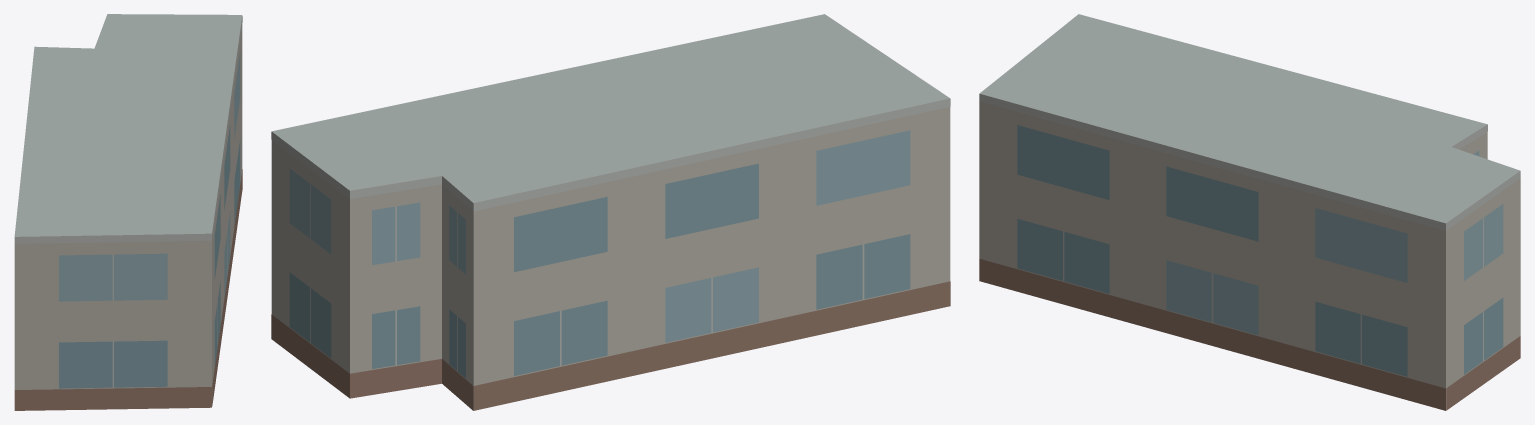
File: survey-upis-33037863.glb
3 views of the same model, side by side, from view 1: azimuth 30°, elevation 25°; view 2: azimuth 150°, elevation 25°; view 3: azimuth 270°, elevation 25° (orthographic). The views are drawn at different scales.
Visible parts, largest first — view 1: survey-upis-33037863.tmp; view 2: survey-upis-33037863.tmp; view 3: survey-upis-33037863.tmp.
Part boxes in pixels (bbox=[...]): survey-upis-33037863.tmp: bbox=[14, 14, 242, 410]; survey-upis-33037863.tmp: bbox=[271, 14, 950, 410]; survey-upis-33037863.tmp: bbox=[979, 14, 1520, 410].
Bounding box in the file's own units: 14.63 × 6.1 × 15.97.
